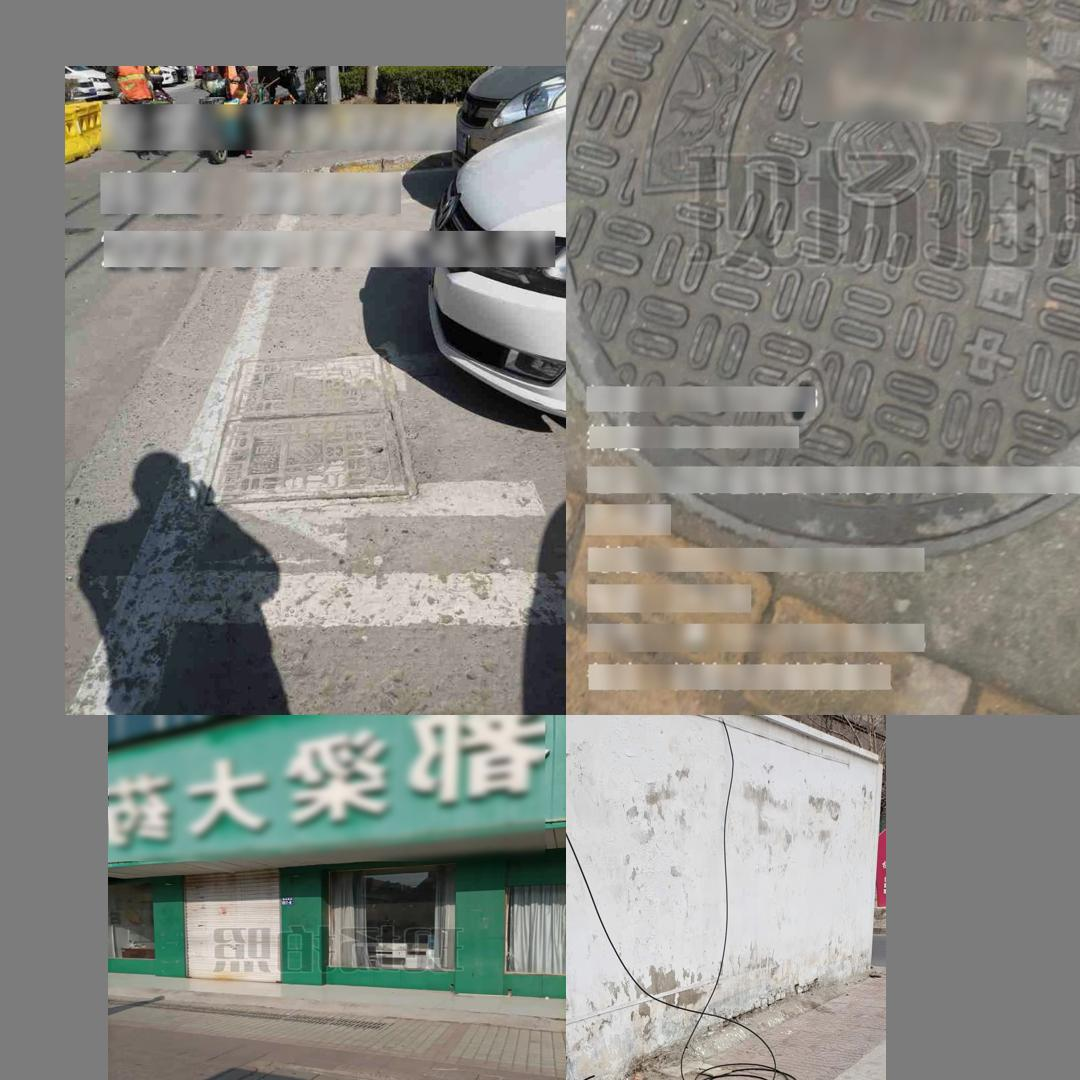good: (567, 0, 1080, 560), (195, 351, 421, 511), (198, 1063, 421, 1080)
